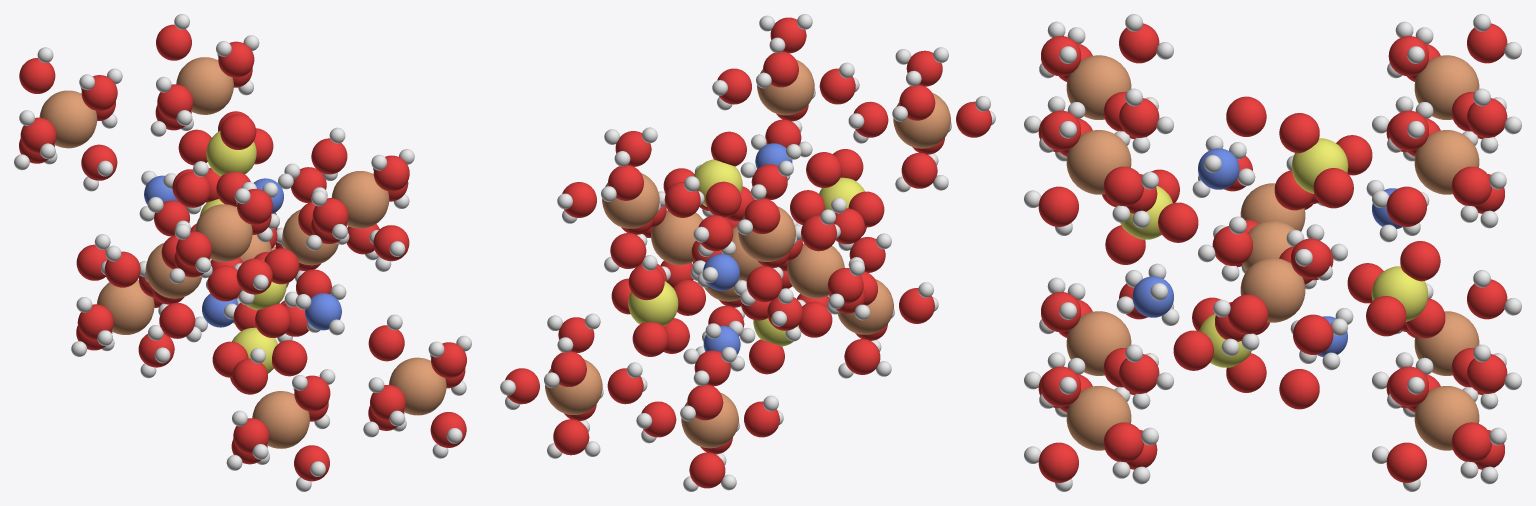
Rendered from FeH20S2(NO7)2_xyz.fbx.
3 renders of one model, left to right at view 1: azimuth 30°, elevation 25°; view 2: azimuth 150°, elevation 25°; view 3: azimuth 270°, elevation 25°, orthographic. The views are drawn at different scales.
Parts seen in each view (by area): view 1: Iron|Ball (NURBS)_Iron|Dupli|3.0.0.0.0.0.0.0.0, Iron|Ball (NURBS)_Iron|Dupli|4.0.0.0.0.0.0.0.0, Iron|Ball (NURBS)_Iron|Dupli|5.0.0.0.0.0.0.0.0, Iron|Ball (NURBS)_Iron|Dupli|1.0.0.0.0.0.0.0.0, Iron|Ball (NURBS)_Iron|Dupli|7.0.0.0.0.0.0.0.0, Iron|Ball (NURBS)_Iron|Dupli|0.0.0.0.0.0.0.0.0, Iron|Ball (NURBS)_Iron|Dupli|2.0.0.0.0.0.0.0.0, Sulfur|Ball (NURBS)_Sulfur|Dupli|1.0.0.0.0.0.0.0.0, Iron|Ball (NURBS)_Iron|Dupli|8.0.0.0.0.0.0.0.0, Iron|Ball (NURBS)_Iron|Dupli|9.0.0.0.0.0.0.0.0, Oxygen|Ball (NURBS)_Oxygen|Dupli|76.0.0.0.0.0.0.0.0, Oxygen|Ball (NURBS)_Oxygen|Dupli|70.0.0.0.0.0.0.0.0 (+46 smaller); view 2: Iron|Ball (NURBS)_Iron|Dupli|8.0.0.0.0.0.0.0.0, Iron|Ball (NURBS)_Iron|Dupli|9.0.0.0.0.0.0.0.0, Iron|Ball (NURBS)_Iron|Dupli|1.0.0.0.0.0.0.0.0, Iron|Ball (NURBS)_Iron|Dupli|5.0.0.0.0.0.0.0.0, Iron|Ball (NURBS)_Iron|Dupli|2.0.0.0.0.0.0.0.0, Iron|Ball (NURBS)_Iron|Dupli|3.0.0.0.0.0.0.0.0, Iron|Ball (NURBS)_Iron|Dupli|7.0.0.0.0.0.0.0.0, Iron|Ball (NURBS)_Iron|Dupli|6.0.0.0.0.0.0.0.0, Sulfur|Ball (NURBS)_Sulfur|Dupli|2.0.0.0.0.0.0.0.0, Iron|Ball (NURBS)_Iron|Dupli|0.0.0.0.0.0.0.0.0, Sulfur|Ball (NURBS)_Sulfur|Dupli|1.0.0.0.0.0.0.0.0, Oxygen|Ball (NURBS)_Oxygen|Dupli|35.0.0.0.0.0.0.0.0 (+54 smaller); view 3: Iron|Ball (NURBS)_Iron|Dupli|6.0.0.0.0.0.0.0.0, Iron|Ball (NURBS)_Iron|Dupli|9.0.0.0.0.0.0.0.0, Iron|Ball (NURBS)_Iron|Dupli|5.0.0.0.0.0.0.0.0, Iron|Ball (NURBS)_Iron|Dupli|4.0.0.0.0.0.0.0.0, Iron|Ball (NURBS)_Iron|Dupli|7.0.0.0.0.0.0.0.0, Iron|Ball (NURBS)_Iron|Dupli|0.0.0.0.0.0.0.0.0, Iron|Ball (NURBS)_Iron|Dupli|1.0.0.0.0.0.0.0.0, Iron|Ball (NURBS)_Iron|Dupli|3.0.0.0.0.0.0.0.0, Iron|Ball (NURBS)_Iron|Dupli|2.0.0.0.0.0.0.0.0, Sulfur|Ball (NURBS)_Sulfur|Dupli|1.0.0.0.0.0.0.0.0, Sulfur|Ball (NURBS)_Sulfur|Dupli|2.0.0.0.0.0.0.0.0, Iron|Ball (NURBS)_Iron|Dupli|8.0.0.0.0.0.0.0.0 (+49 smaller).
Boxes of the visible parts, x1,y1,x2,y2 form: Iron|Ball (NURBS)_Iron|Dupli|3.0.0.0.0.0.0.0.0: (39, 90, 97, 148); Iron|Ball (NURBS)_Iron|Dupli|4.0.0.0.0.0.0.0.0: (389, 357, 446, 415); Iron|Ball (NURBS)_Iron|Dupli|5.0.0.0.0.0.0.0.0: (331, 171, 389, 228); Iron|Ball (NURBS)_Iron|Dupli|1.0.0.0.0.0.0.0.0: (195, 204, 252, 261); Iron|Ball (NURBS)_Iron|Dupli|7.0.0.0.0.0.0.0.0: (176, 57, 233, 114); Iron|Ball (NURBS)_Iron|Dupli|0.0.0.0.0.0.0.0.0: (252, 391, 309, 448); Iron|Ball (NURBS)_Iron|Dupli|2.0.0.0.0.0.0.0.0: (97, 280, 154, 334); Sulfur|Ball (NURBS)_Sulfur|Dupli|1.0.0.0.0.0.0.0.0: (206, 131, 256, 176); Iron|Ball (NURBS)_Iron|Dupli|8.0.0.0.0.0.0.0.0: (145, 243, 201, 298); Iron|Ball (NURBS)_Iron|Dupli|9.0.0.0.0.0.0.0.0: (282, 209, 338, 265); Oxygen|Ball (NURBS)_Oxygen|Dupli|76.0.0.0.0.0.0.0.0: (220, 114, 256, 149); Oxygen|Ball (NURBS)_Oxygen|Dupli|70.0.0.0.0.0.0.0.0: (159, 302, 195, 338); Iron|Ball (NURBS)_Iron|Dupli|8.0.0.0.0.0.0.0.0: (787, 243, 844, 298); Iron|Ball (NURBS)_Iron|Dupli|9.0.0.0.0.0.0.0.0: (651, 210, 703, 265); Iron|Ball (NURBS)_Iron|Dupli|1.0.0.0.0.0.0.0.0: (893, 93, 950, 148); Iron|Ball (NURBS)_Iron|Dupli|5.0.0.0.0.0.0.0.0: (757, 59, 814, 115); Iron|Ball (NURBS)_Iron|Dupli|2.0.0.0.0.0.0.0.0: (681, 392, 738, 448); Iron|Ball (NURBS)_Iron|Dupli|3.0.0.0.0.0.0.0.0: (738, 206, 795, 261); Iron|Ball (NURBS)_Iron|Dupli|7.0.0.0.0.0.0.0.0: (602, 173, 659, 228); Iron|Ball (NURBS)_Iron|Dupli|6.0.0.0.0.0.0.0.0: (545, 359, 602, 414); Sulfur|Ball (NURBS)_Sulfur|Dupli|2.0.0.0.0.0.0.0.0: (628, 281, 678, 326); Iron|Ball (NURBS)_Iron|Dupli|0.0.0.0.0.0.0.0.0: (837, 279, 893, 334); Sulfur|Ball (NURBS)_Sulfur|Dupli|1.0.0.0.0.0.0.0.0: (694, 159, 742, 206); Oxygen|Ball (NURBS)_Oxygen|Dupli|35.0.0.0.0.0.0.0.0: (901, 152, 937, 188); Iron|Ball (NURBS)_Iron|Dupli|6.0.0.0.0.0.0.0.0: (1414, 386, 1479, 450); Iron|Ball (NURBS)_Iron|Dupli|9.0.0.0.0.0.0.0.0: (1240, 258, 1305, 322); Iron|Ball (NURBS)_Iron|Dupli|5.0.0.0.0.0.0.0.0: (1066, 130, 1131, 194); Iron|Ball (NURBS)_Iron|Dupli|4.0.0.0.0.0.0.0.0: (1066, 386, 1131, 450); Iron|Ball (NURBS)_Iron|Dupli|7.0.0.0.0.0.0.0.0: (1414, 130, 1479, 194); Iron|Ball (NURBS)_Iron|Dupli|0.0.0.0.0.0.0.0.0: (1066, 311, 1131, 375); Iron|Ball (NURBS)_Iron|Dupli|1.0.0.0.0.0.0.0.0: (1066, 55, 1131, 119); Iron|Ball (NURBS)_Iron|Dupli|3.0.0.0.0.0.0.0.0: (1414, 55, 1479, 119); Iron|Ball (NURBS)_Iron|Dupli|2.0.0.0.0.0.0.0.0: (1414, 311, 1479, 375); Sulfur|Ball (NURBS)_Sulfur|Dupli|1.0.0.0.0.0.0.0.0: (1292, 138, 1348, 193); Sulfur|Ball (NURBS)_Sulfur|Dupli|2.0.0.0.0.0.0.0.0: (1371, 266, 1427, 321); Iron|Ball (NURBS)_Iron|Dupli|8.0.0.0.0.0.0.0.0: (1240, 183, 1305, 231).
Size of the model in its own units: 1447 by 1445 by 1799.
